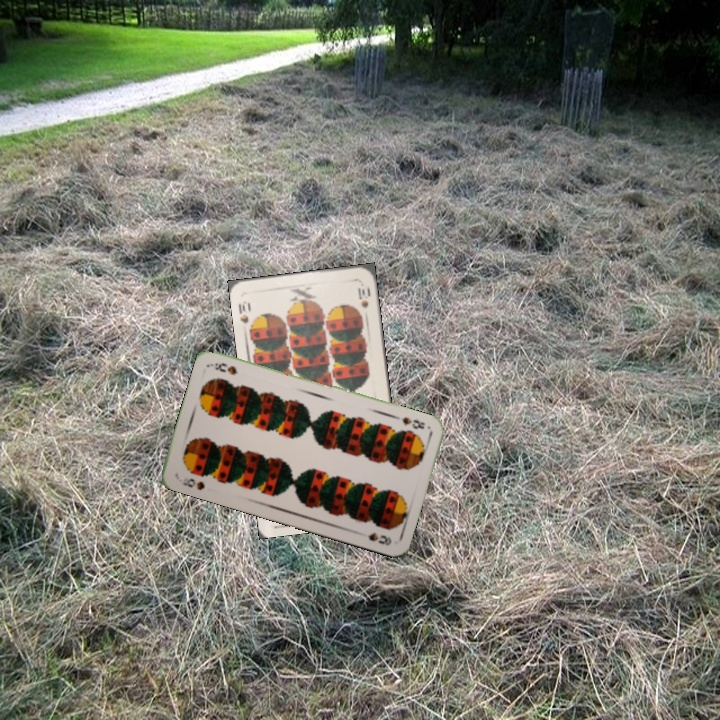S10: (234, 297, 253, 326)
S8: (178, 473, 208, 493), (398, 413, 427, 432)
